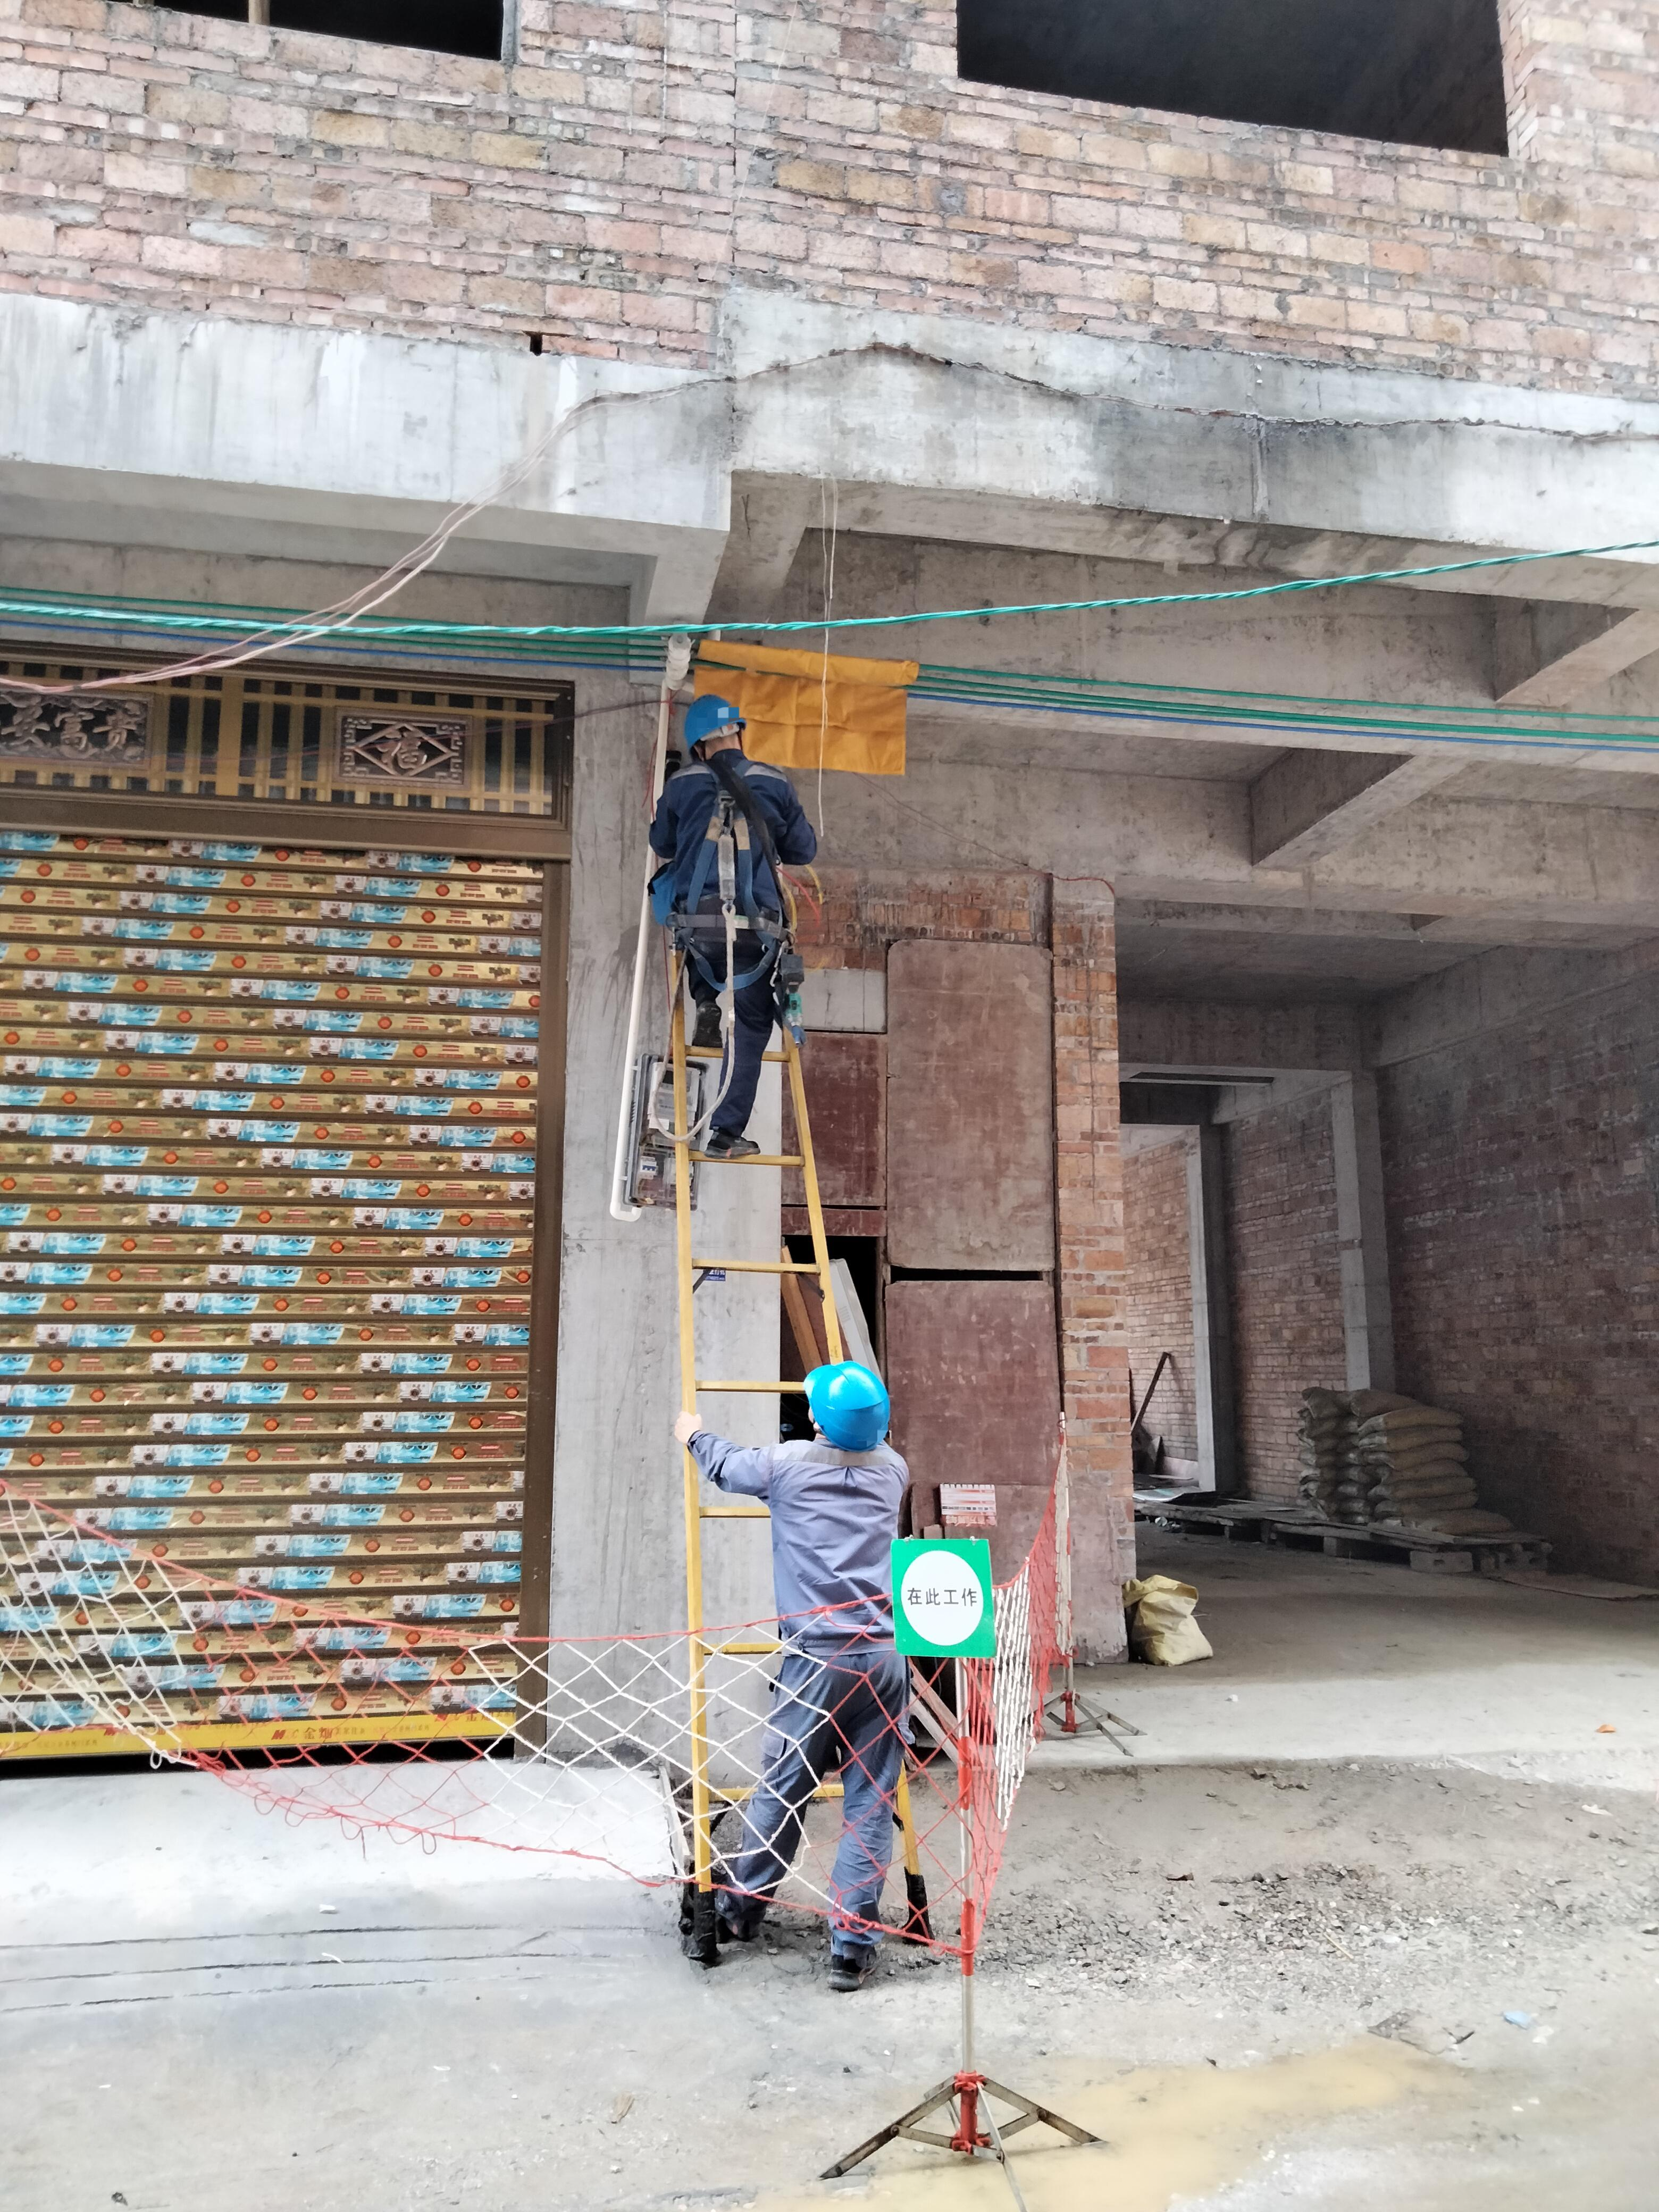halt: (805, 1364, 890, 1453), (681, 695, 749, 761)
